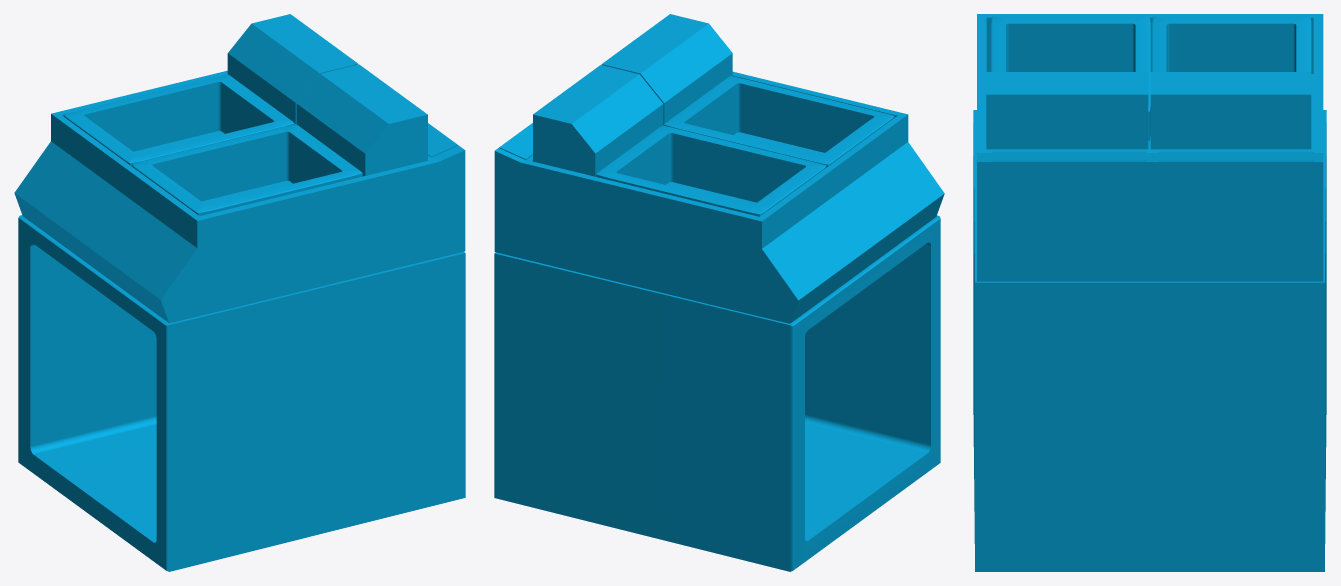
File: Restaurant_Electric_Fryer_Lod2.fbx
The picture shows the model from 3 angles, left to right: view 1: azimuth 30°, elevation 25°; view 2: azimuth 150°, elevation 25°; view 3: azimuth 270°, elevation 25°; orthographic projection. The views are drawn at different scales.
Visible parts, largest first — view 1: Restaurant_Electric_Fryer_Lod2; view 2: Restaurant_Electric_Fryer_Lod2; view 3: Restaurant_Electric_Fryer_Lod2.
Part boxes in pixels (x1,y1,x2,y2): Restaurant_Electric_Fryer_Lod2: (14, 14, 465, 571); Restaurant_Electric_Fryer_Lod2: (494, 14, 944, 571); Restaurant_Electric_Fryer_Lod2: (973, 14, 1326, 571).
Size of the model in its own units: 69.61 by 84.99 by 59.19.
